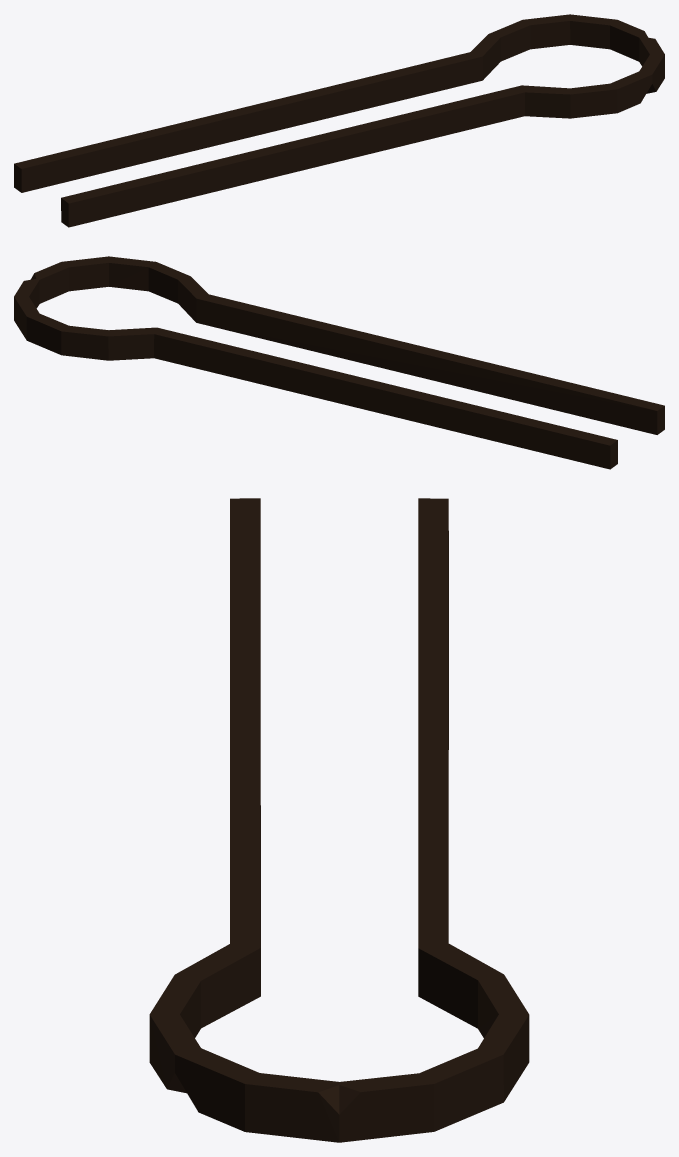
Rendered from SFFA_Tool_007.fbx.
The picture shows the model from 3 angles, top to bottom: view 1: azimuth 30°, elevation 25°; view 2: azimuth 150°, elevation 25°; view 3: azimuth 270°, elevation 25°; orthographic projection. The views are drawn at different scales.
Visible parts, largest first — view 1: SFFA_Tool_007; view 2: SFFA_Tool_007; view 3: SFFA_Tool_007.
Boxes of the visible parts, <box> form: SFFA_Tool_007: <box>14,14,664,227</box>; SFFA_Tool_007: <box>14,256,664,469</box>; SFFA_Tool_007: <box>149,498,529,1142</box>.
Size of the model in its own units: 65.66 by 2.51 by 17.67.
